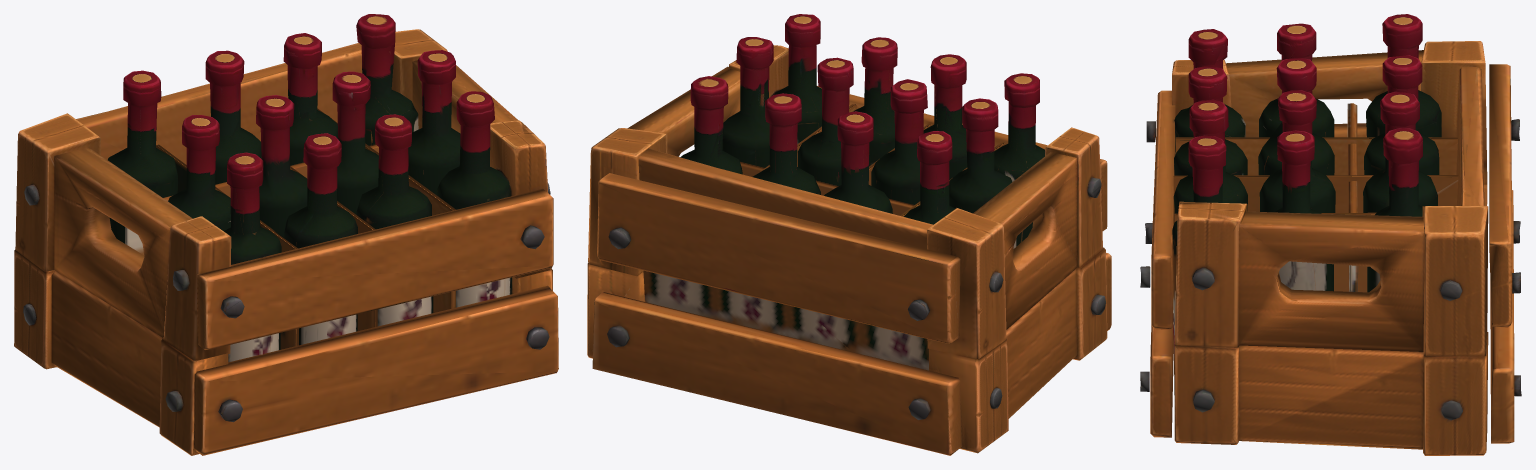
Rendered from winecrate_withwine.glb.
3 views of the same model, side by side, from view 1: azimuth 30°, elevation 25°; view 2: azimuth 150°, elevation 25°; view 3: azimuth 270°, elevation 25° (orthographic). The views are drawn at different scales.
Size of the model in its own units: 1 by 0.6504 by 0.8008.
1 material, 1 textured.
